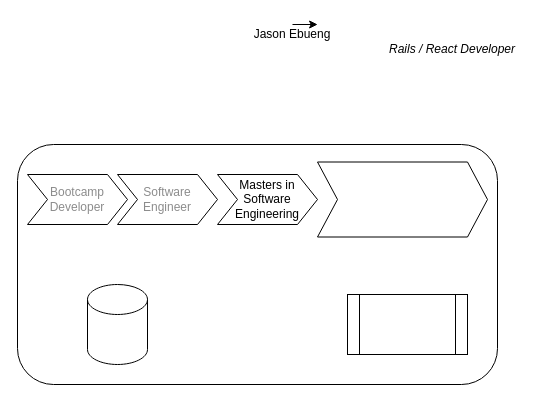
This 535x402 diagram has some shape labels left out. Here are the shapes that lost their labels. From the top down, the box of each, then its label:
(316, 161, 488, 237): Jason Ebueng Rails / React Developer
(346, 294, 468, 354): React
